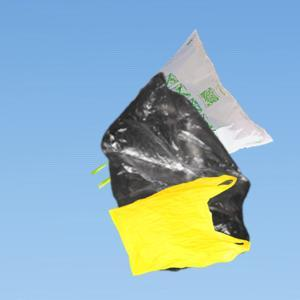plastic_bag: (108, 174, 253, 278)
